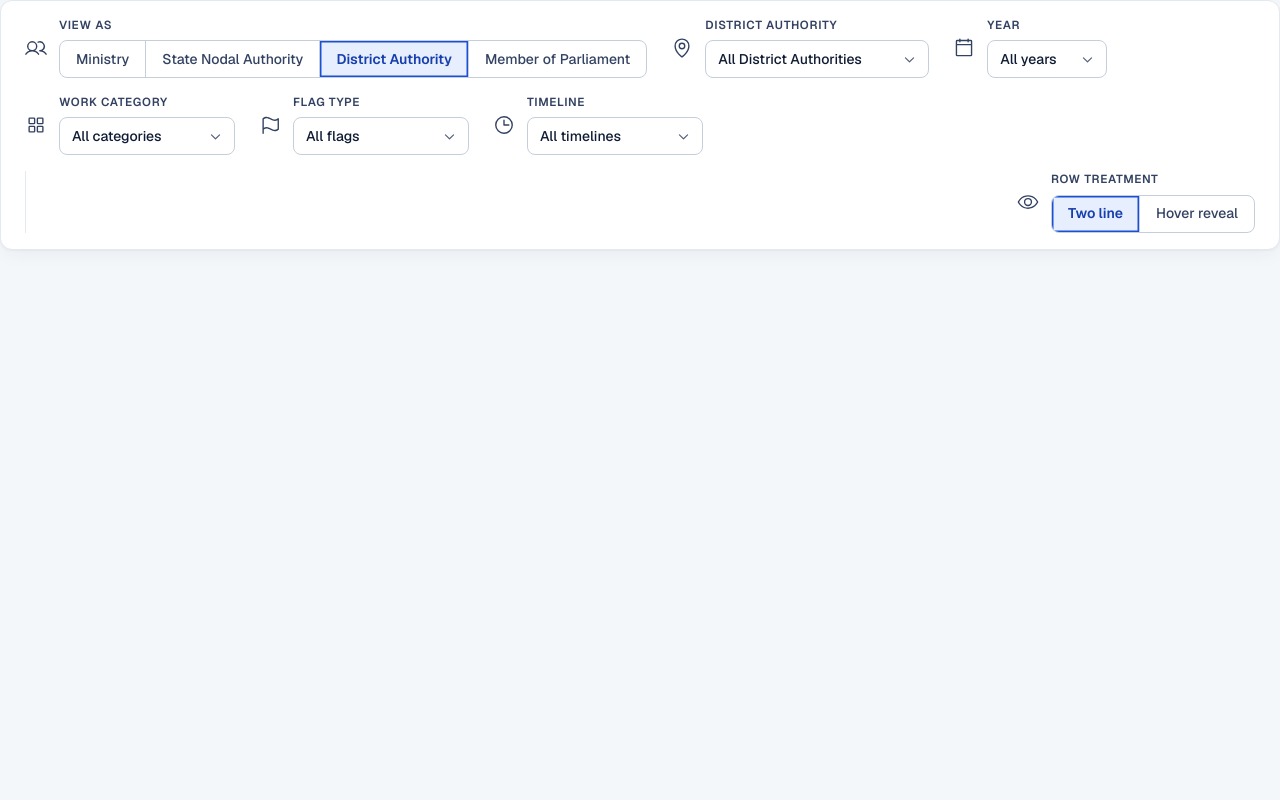
Test: FilterPanel: the 'View as' role lens (T6) › choosing a District Authority replaces the value and closes the popover
What coordinates should you click on to do the following:
click the button "All District Authorities"
I would click on:
 (817, 59)
Its box is [705, 40, 929, 78].
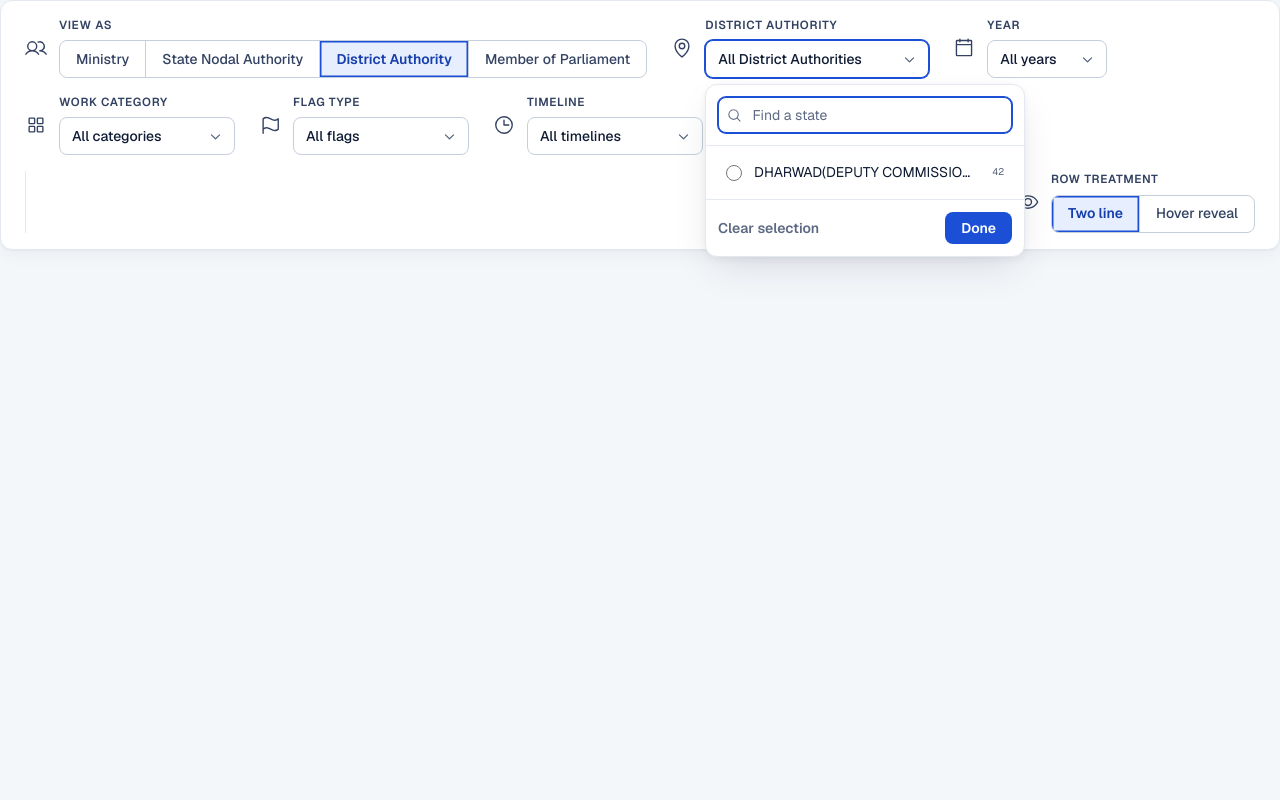
What coordinates should you click on to do the following:
click the text "DHARWAD(DEPUTY COMMISSIONER DHARWAR_IDA)"
I would click on:
 (867, 172)
Its box is [754, 162, 980, 183].
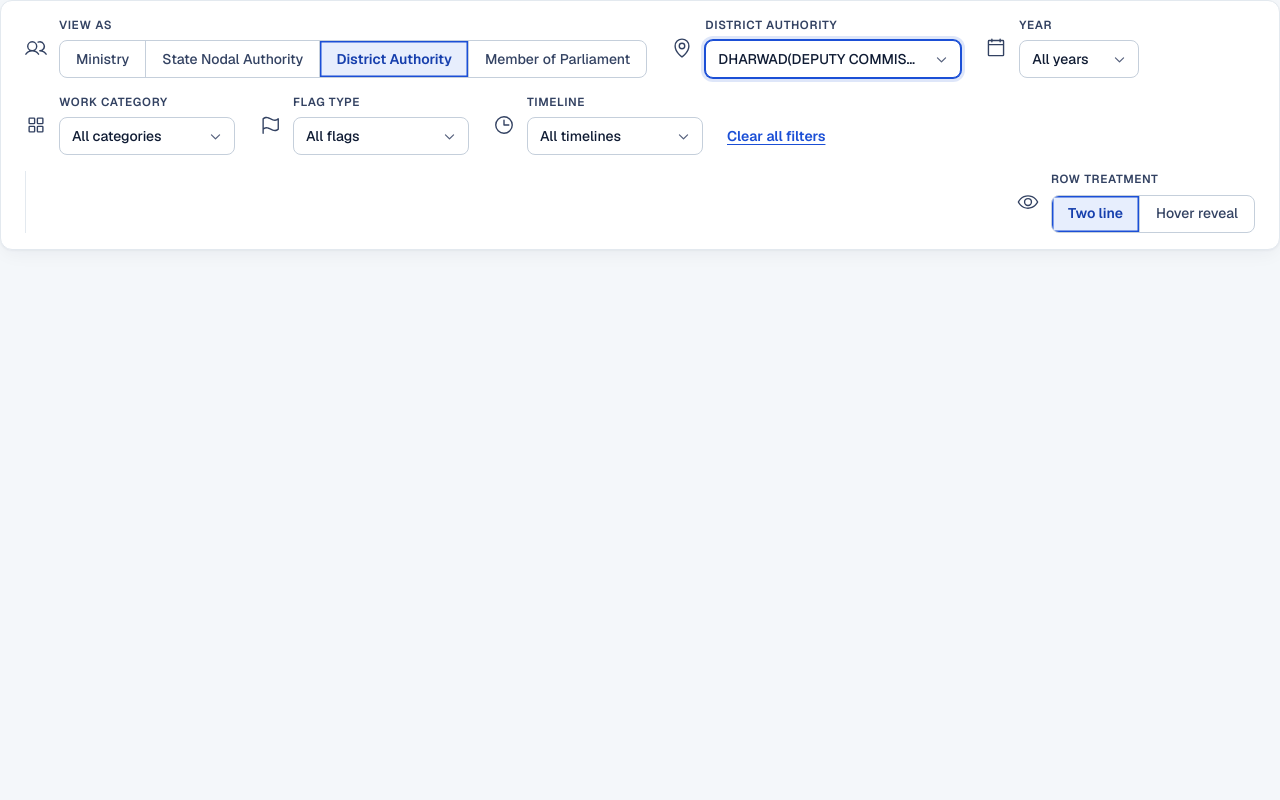
Expected: the text "DHARWAD(DEPUTY COMMISSIONER DHARWAR_IDA)" is shown once, [718, 49, 923, 70]
Result: the button "DHARWAD(DEPUTY COMMISSIONER DHARWAR_IDA)" is shown at [705, 40, 961, 78]
